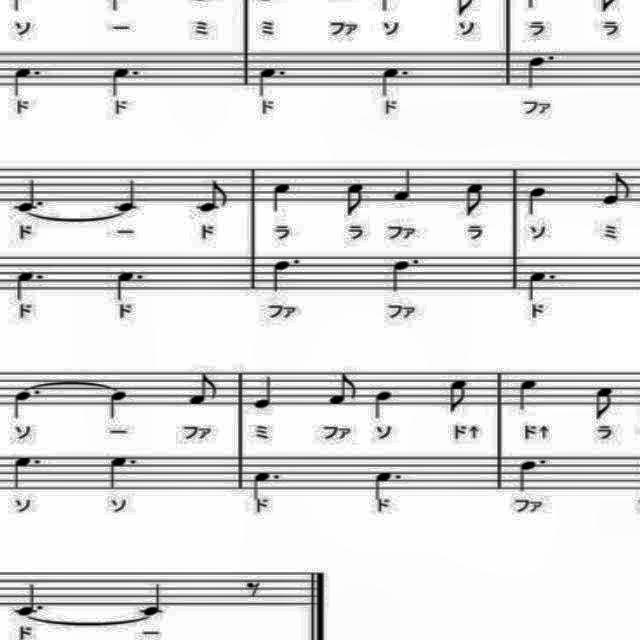Eighth-note: (186, 366, 220, 409), (194, 178, 232, 216), (442, 372, 471, 420), (600, 167, 632, 210), (326, 372, 358, 412), (339, 178, 368, 222), (459, 178, 487, 220), (592, 381, 616, 423)
Eighth-rest: (239, 574, 267, 600)
Quarter-dot: (519, 47, 565, 93), (106, 267, 154, 303), (381, 255, 421, 295), (105, 450, 145, 490), (8, 578, 48, 618), (268, 256, 304, 298), (11, 178, 47, 218), (8, 450, 44, 490), (248, 466, 288, 502), (516, 456, 552, 496), (526, 264, 560, 304), (372, 464, 408, 501), (8, 266, 44, 302), (8, 385, 44, 421), (102, 63, 142, 95), (377, 64, 411, 100), (258, 64, 290, 100), (12, 64, 44, 96)
Quarter-note: (250, 372, 278, 414), (134, 580, 166, 616), (514, 374, 542, 414), (391, 164, 417, 204), (115, 178, 143, 214), (106, 386, 134, 422), (268, 180, 296, 214), (524, 186, 550, 220), (374, 388, 394, 422)
